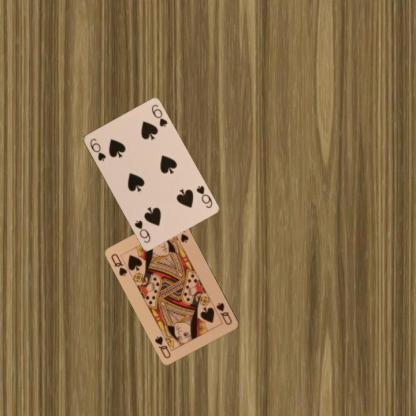6s: (193, 182, 214, 210), (87, 136, 107, 162)
Qs: (108, 250, 128, 278), (214, 300, 234, 326)
